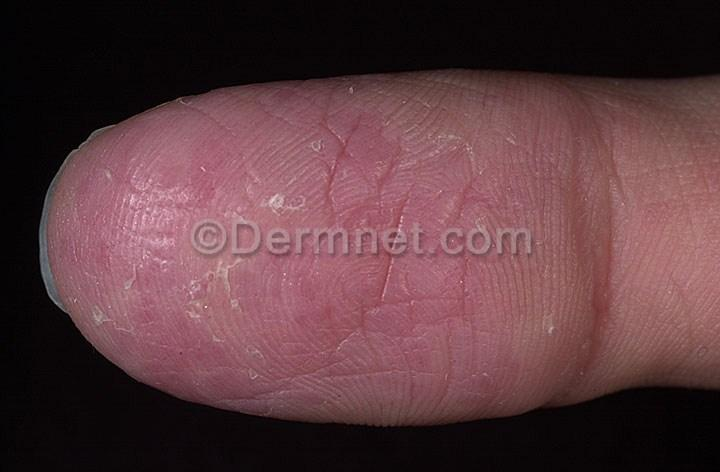Eczema: (265, 82, 447, 263), (440, 220, 585, 409), (256, 276, 434, 424), (79, 161, 244, 318), (466, 91, 596, 228)
